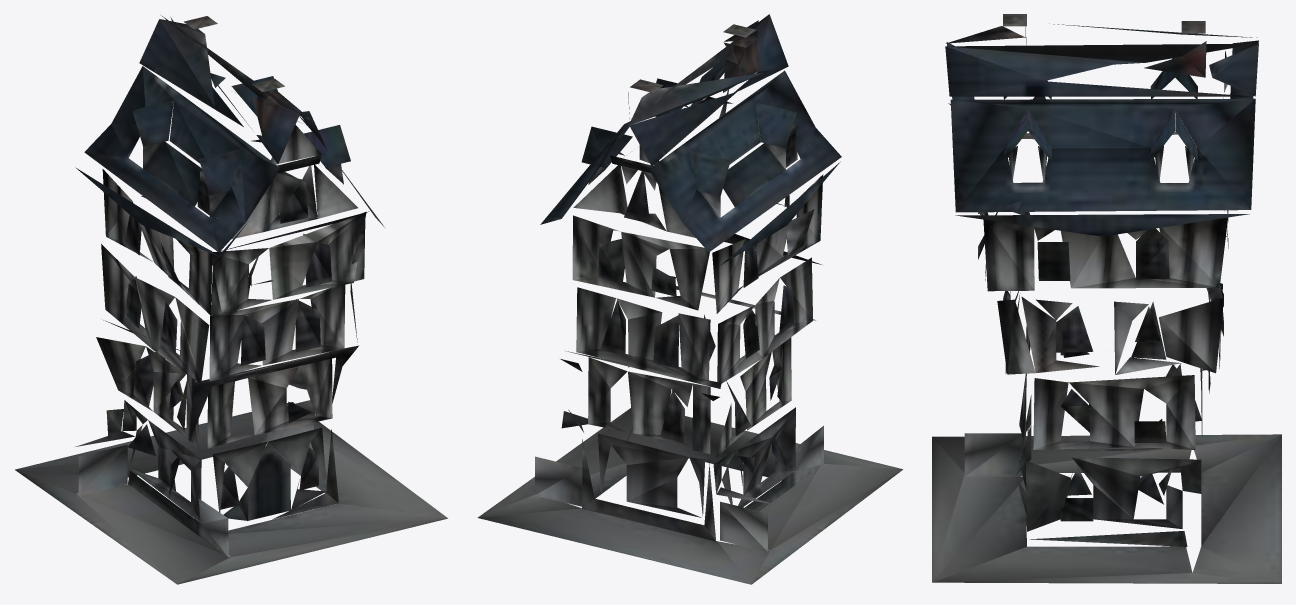
The model's file is alley.glb.
3 views of the same model, side by side, from view 1: azimuth 30°, elevation 25°; view 2: azimuth 150°, elevation 25°; view 3: azimuth 270°, elevation 25° (orthographic). The views are drawn at different scales.
Visible parts, largest first — view 1: tripo_node_94e7d52b-d3fc-4e99-9414-bc3ef; view 2: tripo_node_94e7d52b-d3fc-4e99-9414-bc3ef; view 3: tripo_node_94e7d52b-d3fc-4e99-9414-bc3ef.
Part boxes in pixels (bbox=[...]): tripo_node_94e7d52b-d3fc-4e99-9414-bc3ef: bbox=[15, 15, 447, 584]; tripo_node_94e7d52b-d3fc-4e99-9414-bc3ef: bbox=[477, 14, 902, 584]; tripo_node_94e7d52b-d3fc-4e99-9414-bc3ef: bbox=[932, 14, 1281, 583].
Size of the model in its own units: 15.26 by 23.44 by 15.08.
Materials: 1 (1 with a texture image).
